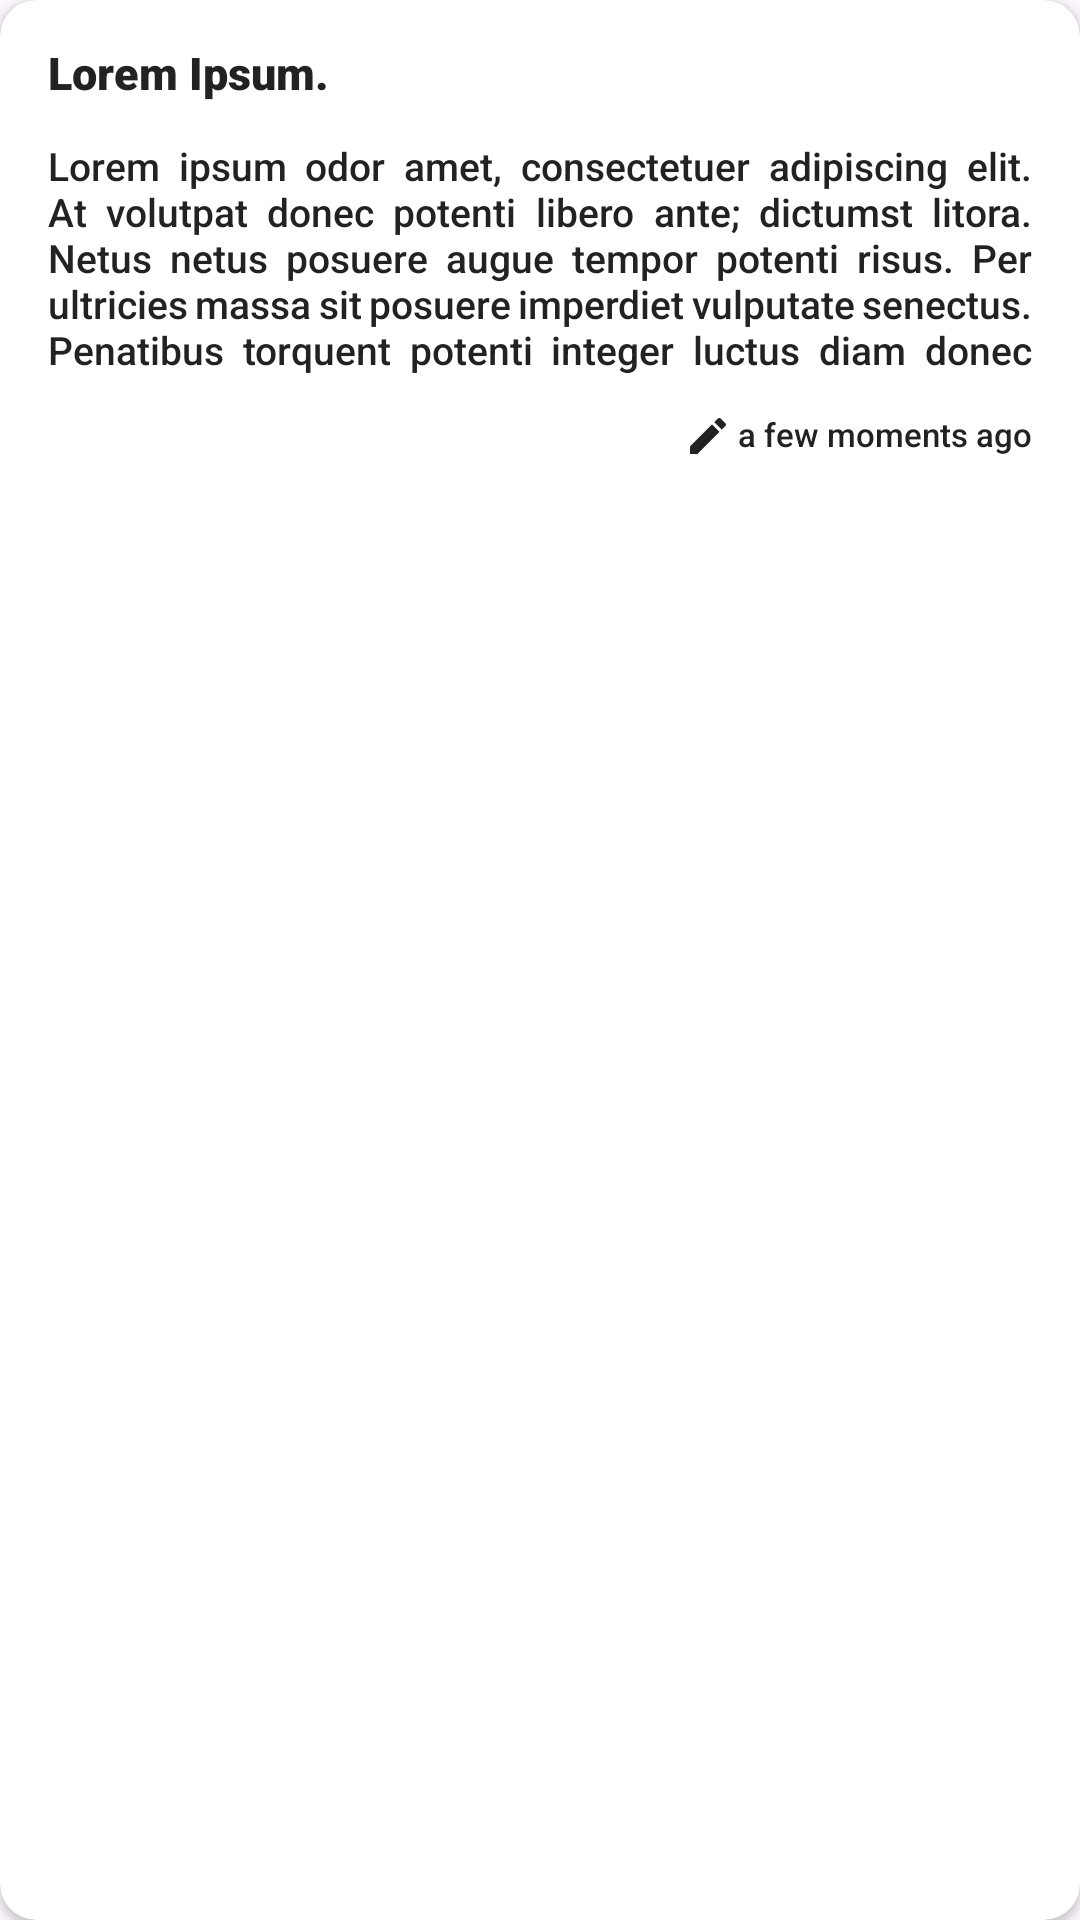

Screen size 1080 × 1920. Icon name, then its center in pixels as (x,y):
edit: (708,436)
